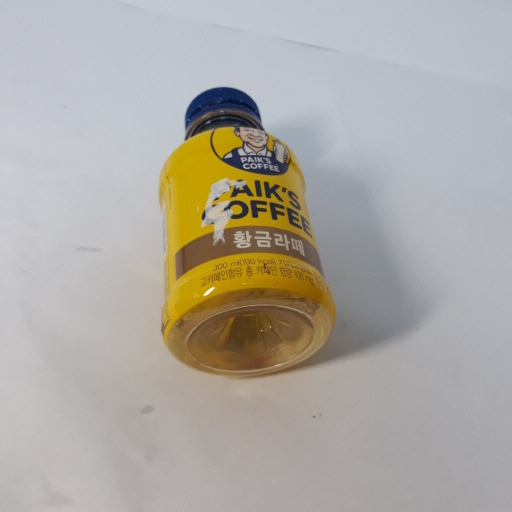Plastic_0: (153, 87, 341, 378)
